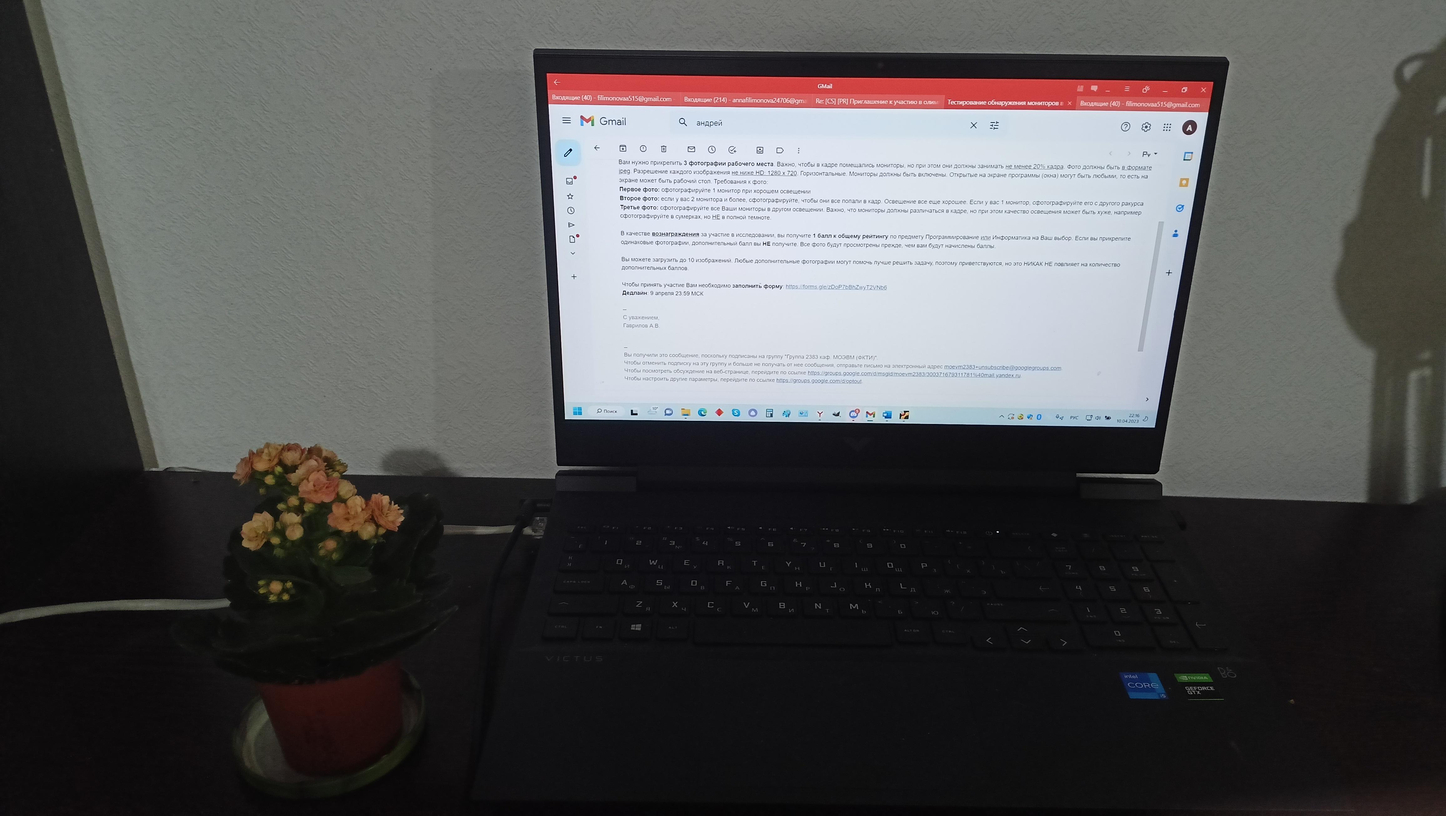monitor: (531, 46, 1231, 479)
